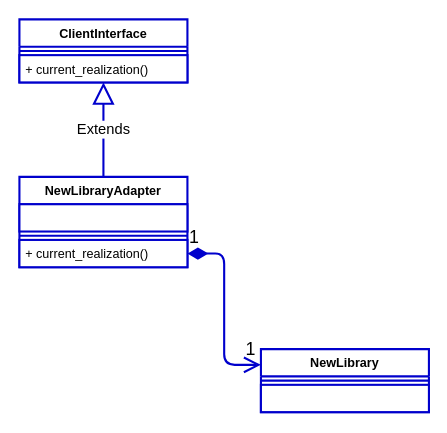
Some shapes in this 447 by 433 pixel diagram are drawn without their labels. The shapes that lost their labels are listed below. From the top down, each one's centre as x and y in pixels, then its label:
At pixel 103 217: "- __library: Service1".
At pixel 344 398: "+ new_functionality()".
